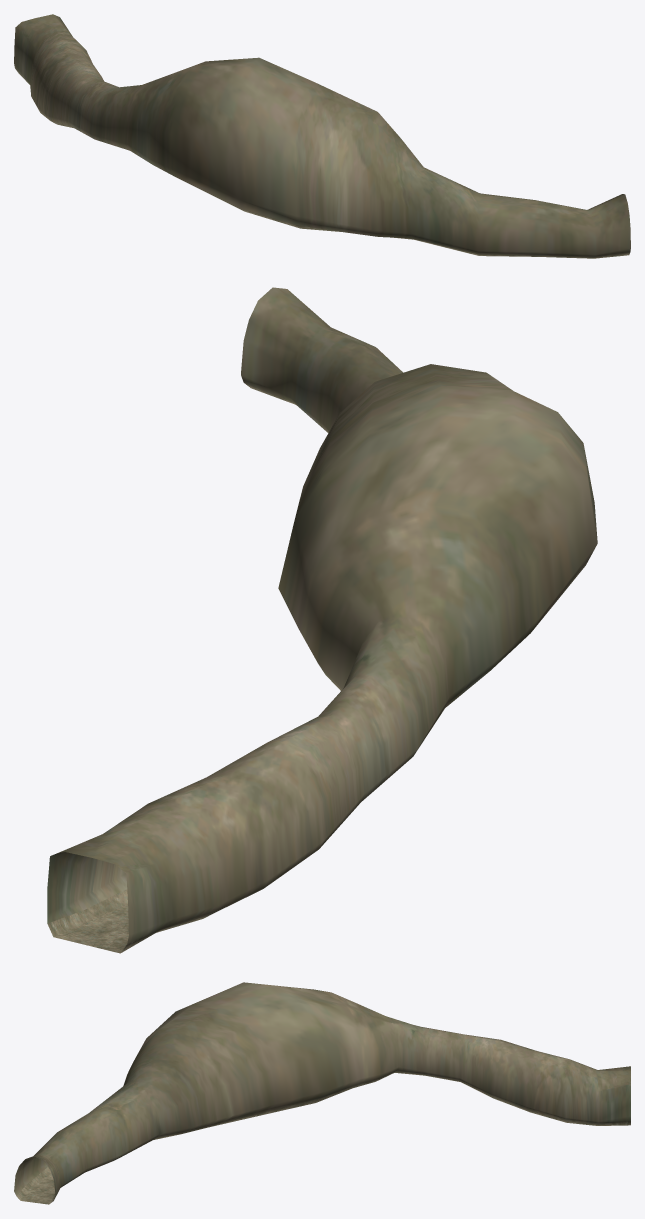
The model's file is OVERHILL_A_01_OH_CAVE_2B02.fbx.
3 renders of one model, top to bottom at view 1: azimuth 30°, elevation 25°; view 2: azimuth 150°, elevation 25°; view 3: azimuth 270°, elevation 25°, orthographic. The views are drawn at different scales.
Parts seen in each view (by area): view 1: OVERHILL_A_01_OH_CAVE_2B02; view 2: OVERHILL_A_01_OH_CAVE_2B02; view 3: OVERHILL_A_01_OH_CAVE_2B02.
Boxes of the visible parts, left/top/right/bottom form: OVERHILL_A_01_OH_CAVE_2B02: left=14, top=14, right=630, bottom=258; OVERHILL_A_01_OH_CAVE_2B02: left=47, top=287, right=597, bottom=953; OVERHILL_A_01_OH_CAVE_2B02: left=14, top=982, right=630, bottom=1204.
Size of the model in its own units: 202052 by 96187 by 399278.
1 material, 1 textured.
